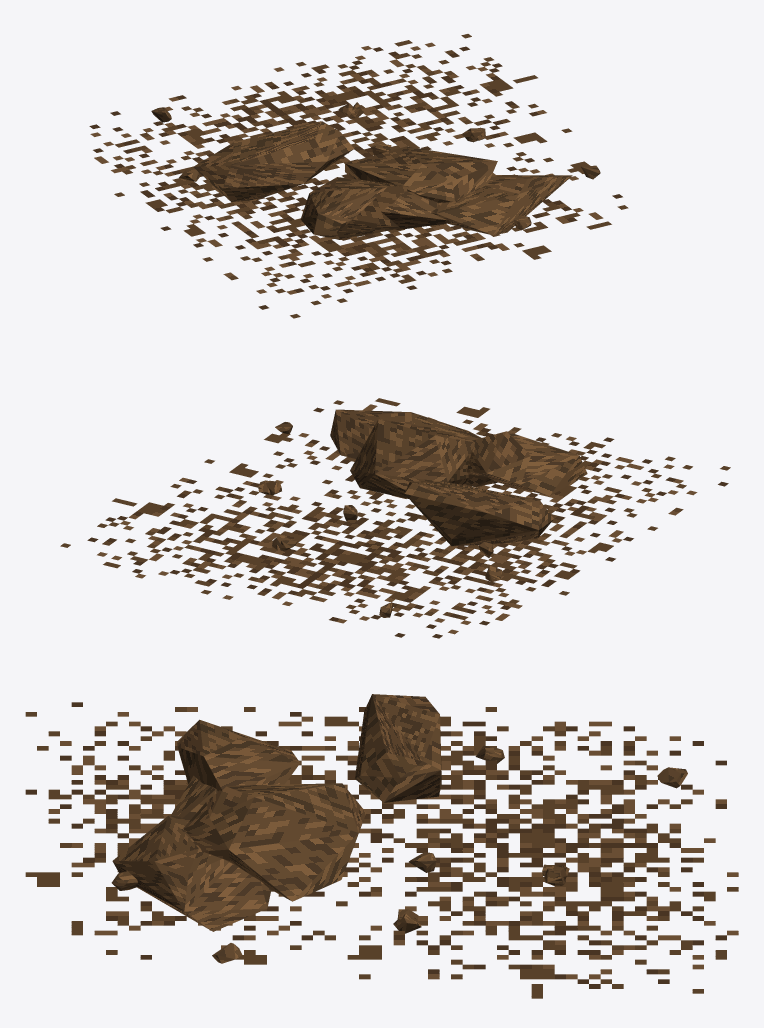
Rendered from fd_churned_earth.glb.
3 renders of one model, top to bottom at view 1: azimuth 30°, elevation 25°; view 2: azimuth 150°, elevation 25°; view 3: azimuth 270°, elevation 25°, orthographic. The views are drawn at different scales.
Parts seen in each view (by area): view 1: block_loose soil, block_mound (×5); view 2: block_loose soil, block_mound (×4); view 3: block_loose soil, block_mound (×5).
Part boxes in pixels (x1,y1,x2,y2): block_loose soil: (89, 34, 628, 318); block_mound (×5): (193, 121, 572, 239); block_loose soil: (60, 398, 730, 638); block_mound (×4): (330, 409, 587, 546); block_loose soil: (25, 702, 738, 998); block_mound (×5): (112, 694, 441, 931).
Bounding box in the file's own units: 1 × 0.105 × 1.
2 materials, 2 textured.
